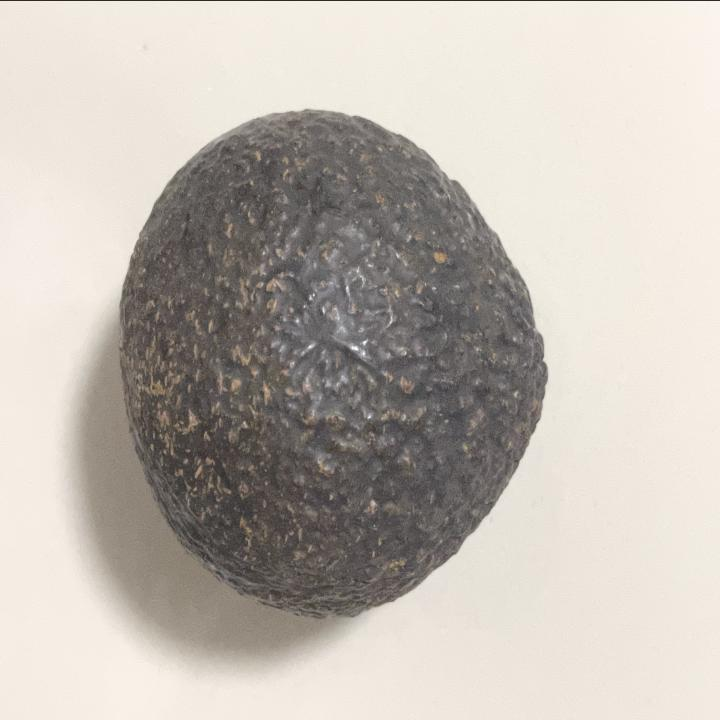Level2: (114, 100, 556, 624)
